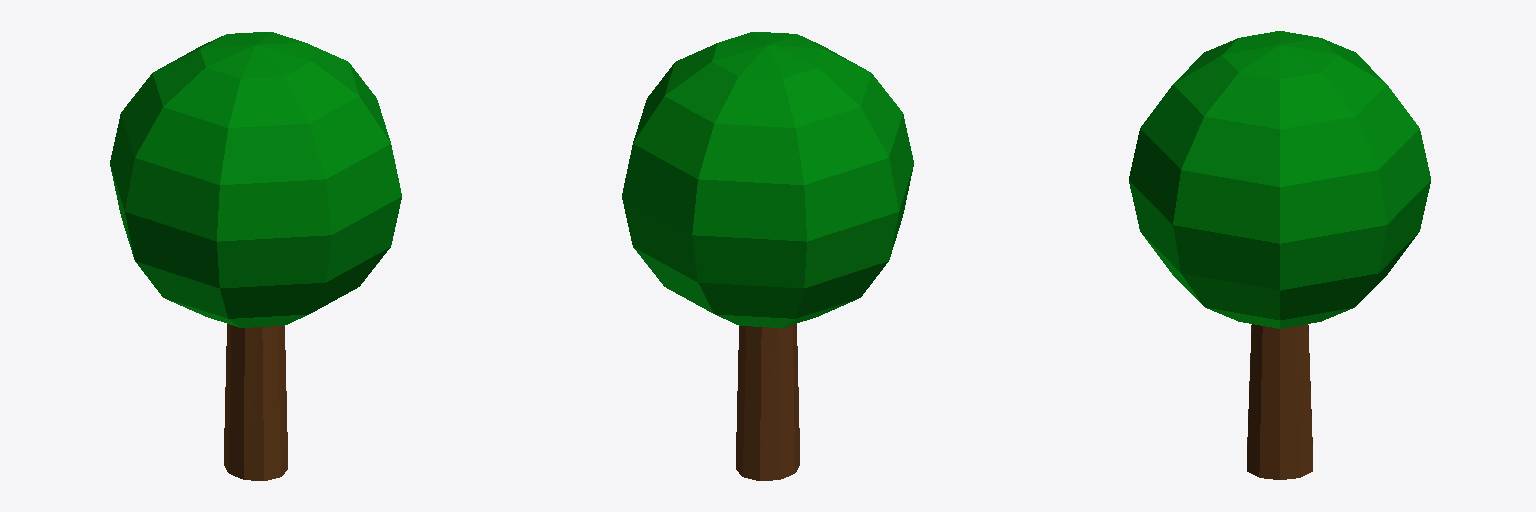
Rendered from Oak_Tree_03.obj.
3 views of the same model, side by side, from view 1: azimuth 30°, elevation 25°; view 2: azimuth 150°, elevation 25°; view 3: azimuth 270°, elevation 25° (orthographic).
Visible parts, largest first — view 1: LEAF, TREE_TRUNK; view 2: LEAF, TREE_TRUNK; view 3: LEAF, TREE_TRUNK.
Part boxes in pixels (left/top/right/bottom): LEAF: left=110, top=32, right=401, bottom=327; TREE_TRUNK: left=224, top=324, right=287, bottom=480; LEAF: left=622, top=32, right=913, bottom=327; TREE_TRUNK: left=736, top=324, right=799, bottom=480; LEAF: left=1129, top=31, right=1430, bottom=328; TREE_TRUNK: left=1247, top=324, right=1312, bottom=479.
Size of the model in its own units: 9.62 by 14.79 by 9.62.